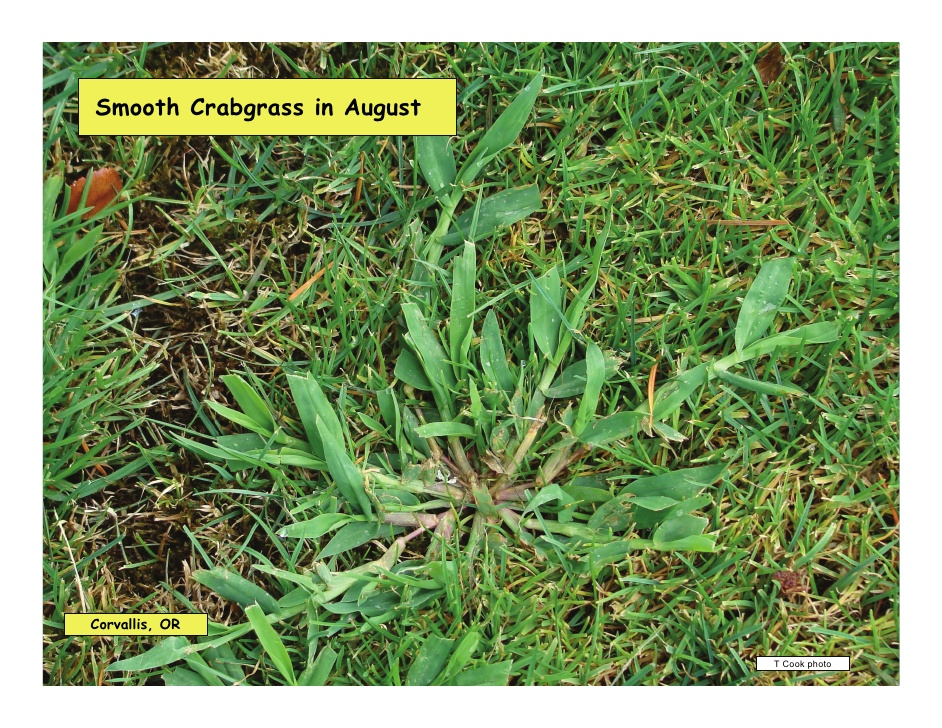crabgrass: (140, 254, 731, 631)
